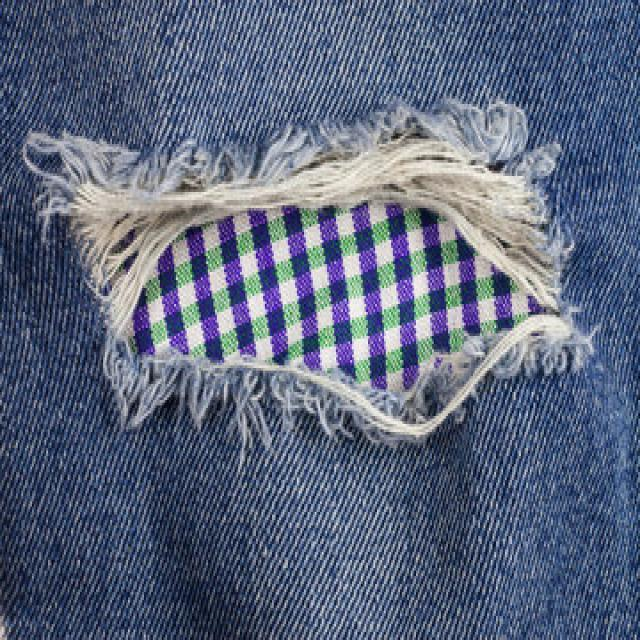Hole: (22, 101, 593, 449)
